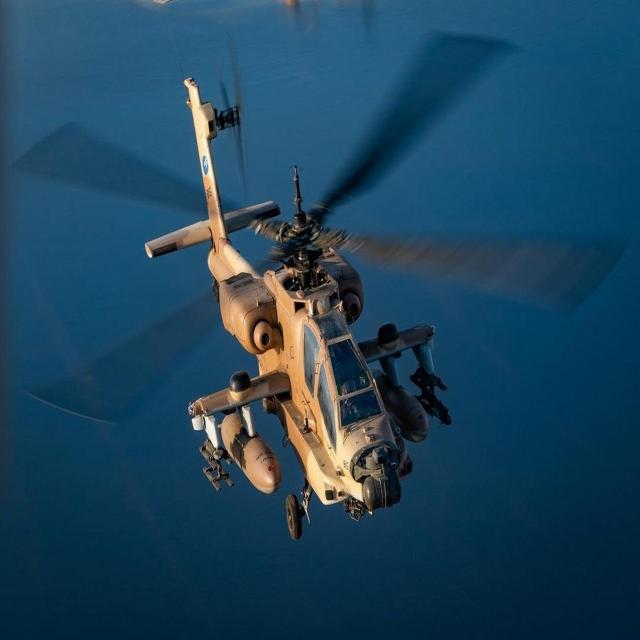MIL_HELO: (5, 33, 603, 551)
